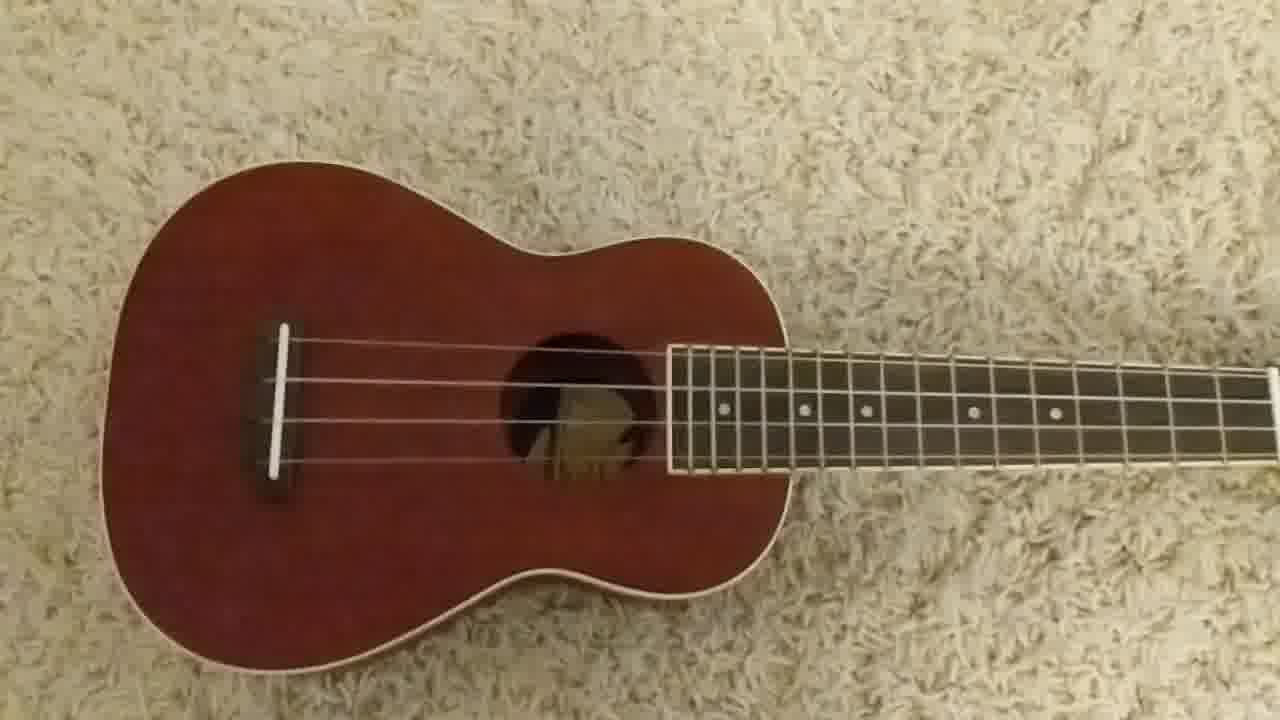Body: (101, 154, 806, 685)
Bridge: (245, 316, 309, 501)
